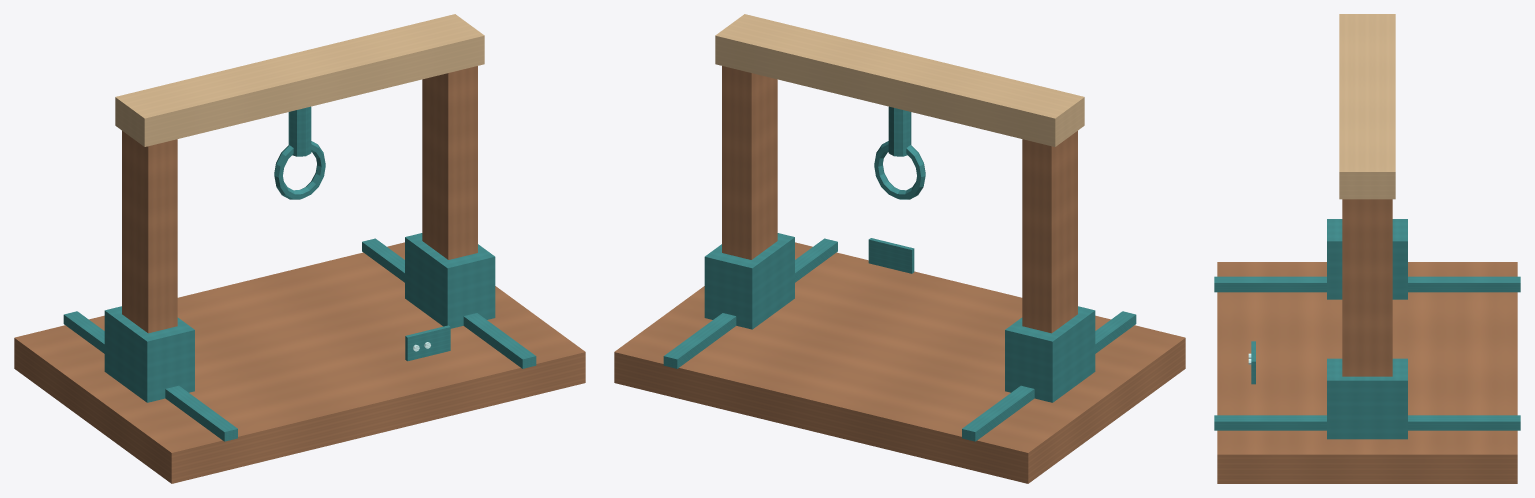
Rendered from atlas100-s096-a02.glb.
3 views of the same model, side by side, from view 1: azimuth 30°, elevation 25°; view 2: azimuth 150°, elevation 25°; view 3: azimuth 270°, elevation 25° (orthographic). The views are drawn at different scales.
Parts seen in each view (by area): view 1: atlas100-s096-a02:part-000, atlas100-s096-a02:part-007, atlas100-s096-a02:part-003, atlas100-s096-a02:part-005, atlas100-s096-a02:part-004, atlas100-s096-a02:part-006, atlas100-s096-a02:part-002, atlas100-s096-a02:part-001, atlas100-s096-a02:part-009, atlas100-s096-a02:part-010, atlas100-s096-a02:part-008; view 2: atlas100-s096-a02:part-000, atlas100-s096-a02:part-007, atlas100-s096-a02:part-003, atlas100-s096-a02:part-005, atlas100-s096-a02:part-004, atlas100-s096-a02:part-006, atlas100-s096-a02:part-002, atlas100-s096-a02:part-001, atlas100-s096-a02:part-009, atlas100-s096-a02:part-010, atlas100-s096-a02:part-008; view 3: atlas100-s096-a02:part-000, atlas100-s096-a02:part-007, atlas100-s096-a02:part-005, atlas100-s096-a02:part-006, atlas100-s096-a02:part-001, atlas100-s096-a02:part-002, atlas100-s096-a02:part-004.
Part boxes in pixels (bbox=[...]): atlas100-s096-a02:part-000: bbox=[14, 242, 585, 483]; atlas100-s096-a02:part-007: bbox=[115, 14, 484, 146]; atlas100-s096-a02:part-003: bbox=[122, 131, 177, 333]; atlas100-s096-a02:part-005: bbox=[422, 66, 477, 259]; atlas100-s096-a02:part-004: bbox=[104, 306, 194, 402]; atlas100-s096-a02:part-006: bbox=[405, 233, 495, 328]; atlas100-s096-a02:part-002: bbox=[362, 238, 536, 368]; atlas100-s096-a02:part-001: bbox=[63, 311, 237, 441]; atlas100-s096-a02:part-009: bbox=[274, 141, 325, 199]; atlas100-s096-a02:part-010: bbox=[405, 325, 450, 361]; atlas100-s096-a02:part-008: bbox=[288, 106, 311, 156]; atlas100-s096-a02:part-000: bbox=[614, 242, 1185, 483]; atlas100-s096-a02:part-007: bbox=[715, 14, 1084, 146]; atlas100-s096-a02:part-003: bbox=[1022, 131, 1077, 333]; atlas100-s096-a02:part-005: bbox=[722, 66, 777, 259]; atlas100-s096-a02:part-004: bbox=[1005, 306, 1095, 402]; atlas100-s096-a02:part-006: bbox=[704, 233, 794, 329]; atlas100-s096-a02:part-002: bbox=[663, 238, 837, 368]; atlas100-s096-a02:part-001: bbox=[962, 311, 1136, 441]; atlas100-s096-a02:part-009: bbox=[874, 141, 925, 199]; atlas100-s096-a02:part-010: bbox=[868, 238, 914, 273]; atlas100-s096-a02:part-008: bbox=[888, 106, 911, 156]; atlas100-s096-a02:part-000: bbox=[1217, 262, 1517, 483]; atlas100-s096-a02:part-007: bbox=[1339, 14, 1395, 199]; atlas100-s096-a02:part-005: bbox=[1342, 199, 1392, 376]; atlas100-s096-a02:part-006: bbox=[1327, 358, 1407, 439]; atlas100-s096-a02:part-001: bbox=[1214, 276, 1520, 292]; atlas100-s096-a02:part-002: bbox=[1214, 415, 1520, 430]; atlas100-s096-a02:part-004: bbox=[1327, 219, 1407, 299].
Size of the model in its own units: 3.64 by 2.6 by 2.45.
4 materials, 4 textured.
